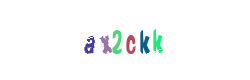2: (84, 0, 164, 80)
A: (71, 0, 151, 80)
C: (85, 0, 165, 80)
K: (90, 0, 170, 80), (98, 0, 178, 80)
X: (80, 0, 160, 80)
